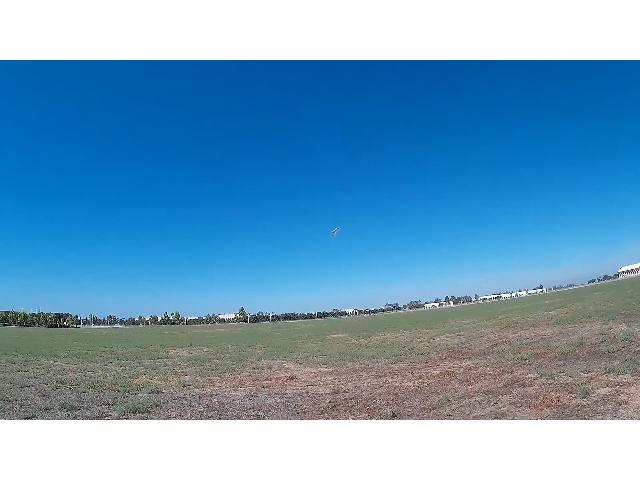Anti-Drone: (331, 228, 339, 236)
